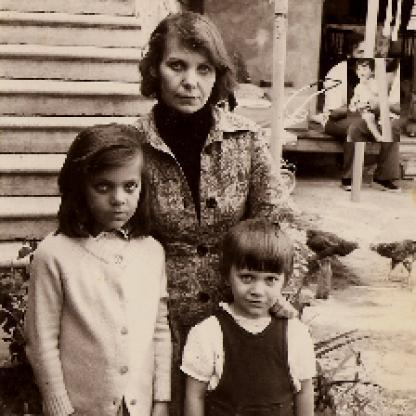child: (25, 122, 176, 416), (181, 217, 321, 416), (348, 59, 402, 144)
